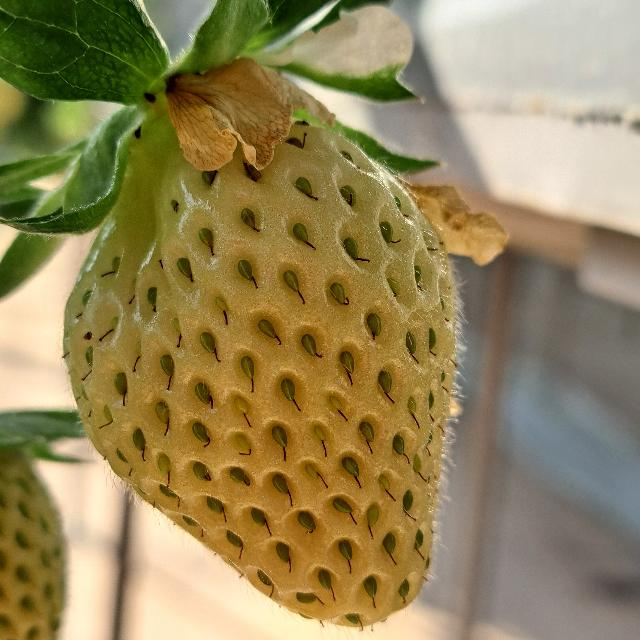Health_25: (62, 109, 456, 626)
